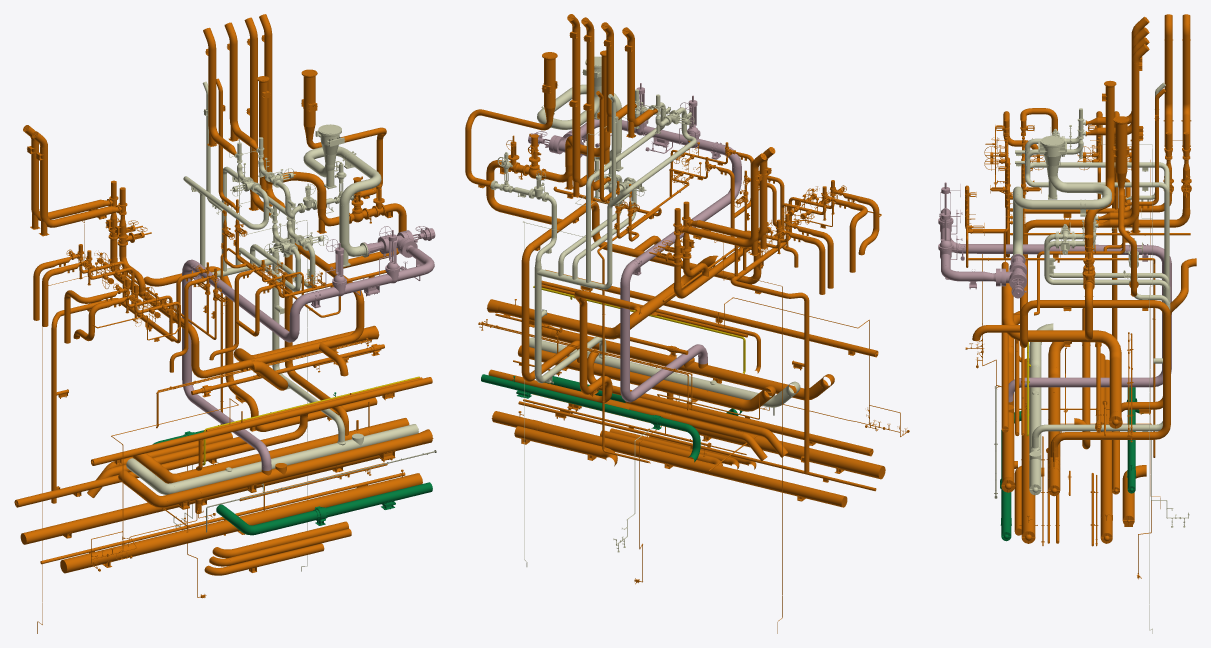
The picture shows the model from 3 angles, left to right: view 1: azimuth 30°, elevation 25°; view 2: azimuth 150°, elevation 25°; view 3: azimuth 270°, elevation 25°; orthographic projection.
Bounding box in the file's own units: 23.15 × 32.39 × 13.28.
